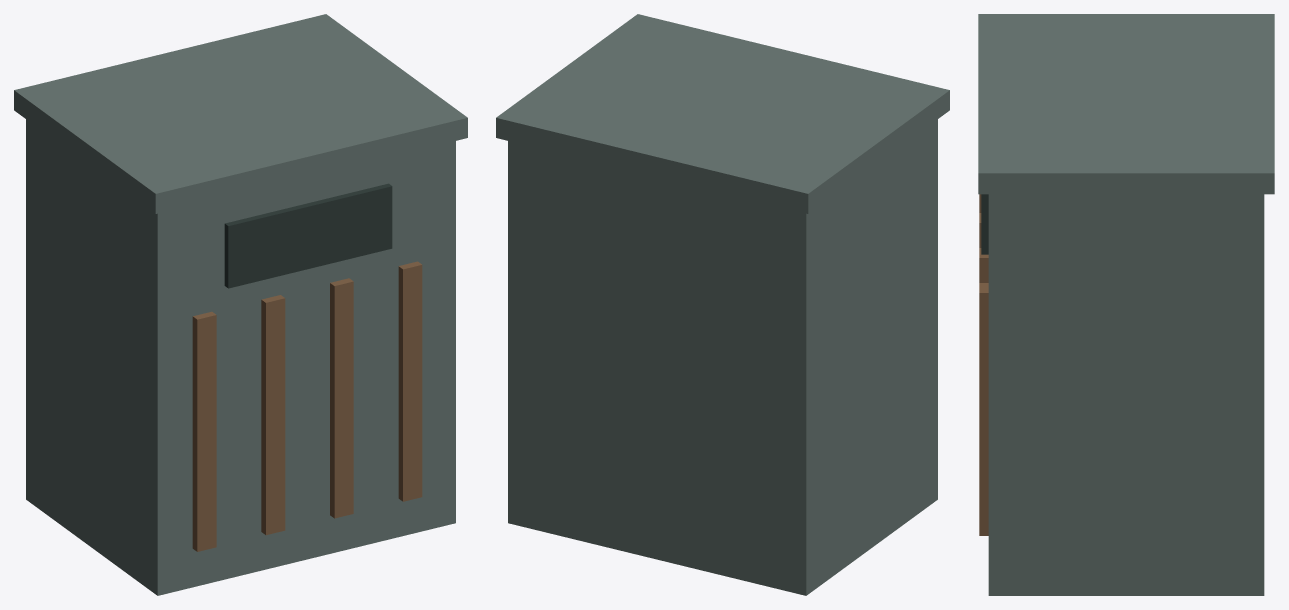
The picture shows the model from 3 angles, left to right: view 1: azimuth 30°, elevation 25°; view 2: azimuth 150°, elevation 25°; view 3: azimuth 270°, elevation 25°; orthographic projection. The views are drawn at different scales.
Visible parts, largest first — view 1: climb-bin-5-0, climb-bin-5-1, 쓰레기통 06; view 2: climb-bin-5-0, climb-bin-5-1; view 3: climb-bin-5-0, climb-bin-5-1, 쓰레기통 06.
Part boxes in pixels (x1,y1,x2,y2): climb-bin-5-0: [26, 119, 455, 595]; climb-bin-5-1: [14, 14, 467, 213]; 쓰레기통 06: [192, 183, 422, 551]; climb-bin-5-0: [508, 119, 937, 595]; climb-bin-5-1: [496, 14, 949, 213]; climb-bin-5-0: [988, 194, 1264, 595]; climb-bin-5-1: [978, 14, 1274, 194]; 쓰레기통 06: [979, 194, 988, 535].
Bounding box in the file's own units: 0.89 × 1.11 × 0.7.
